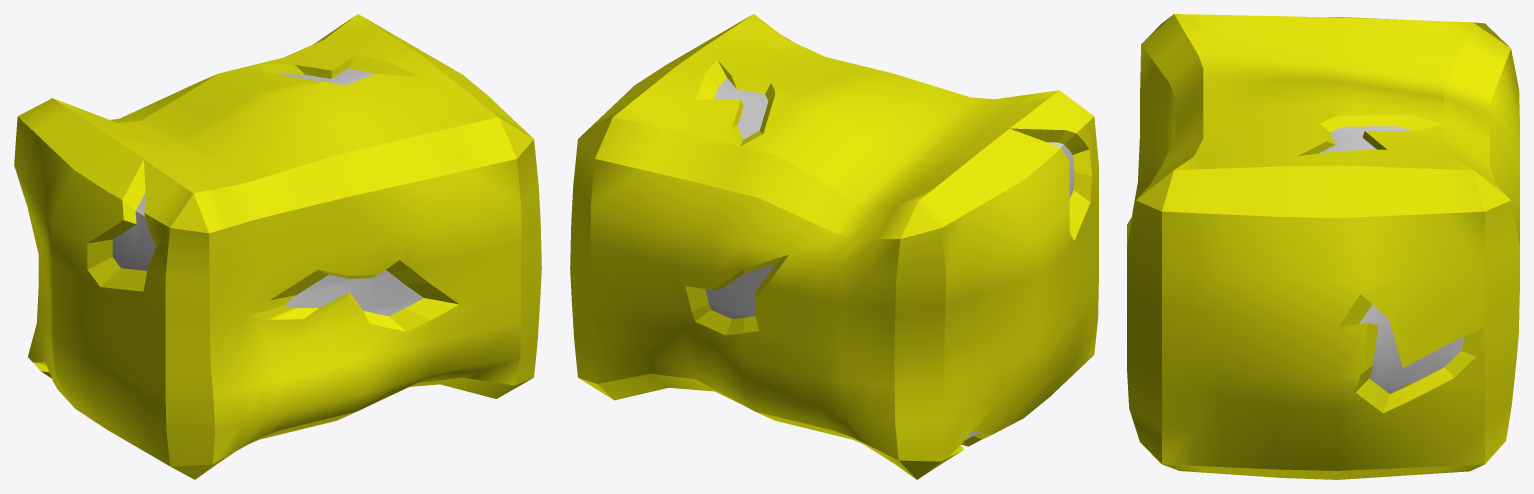
Rendered from brickv2.fbx.
The picture shows the model from 3 angles, left to right: view 1: azimuth 30°, elevation 25°; view 2: azimuth 150°, elevation 25°; view 3: azimuth 270°, elevation 25°; orthographic projection. The views are drawn at different scales.
Visible parts, largest first — view 1: brick; view 2: brick; view 3: brick.
Boxes of the visible parts, left/top/right/bottom form: brick: left=14, top=14, right=541, bottom=479; brick: left=570, top=14, right=1098, bottom=479; brick: left=1127, top=14, right=1519, bottom=479.
Size of the model in its own units: 84.22 by 52.77 by 59.69.
